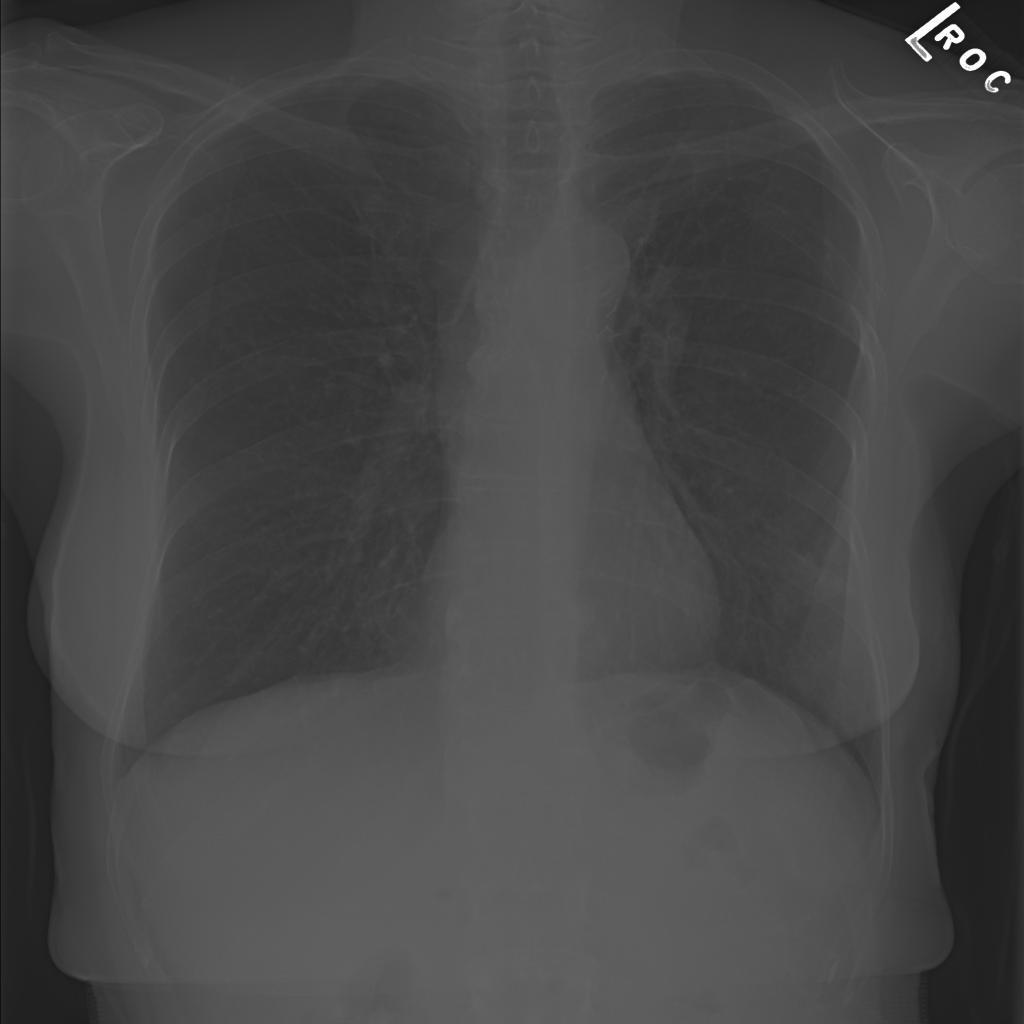Nodule: (201, 141, 243, 167), (346, 327, 376, 348)
